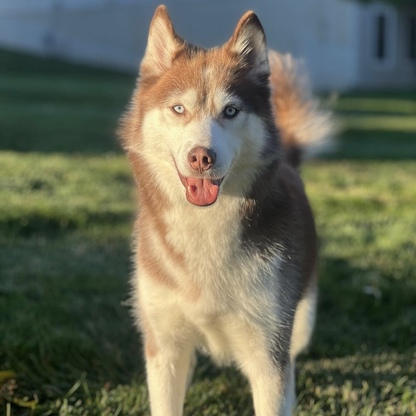husky: (110, 1, 344, 416)
